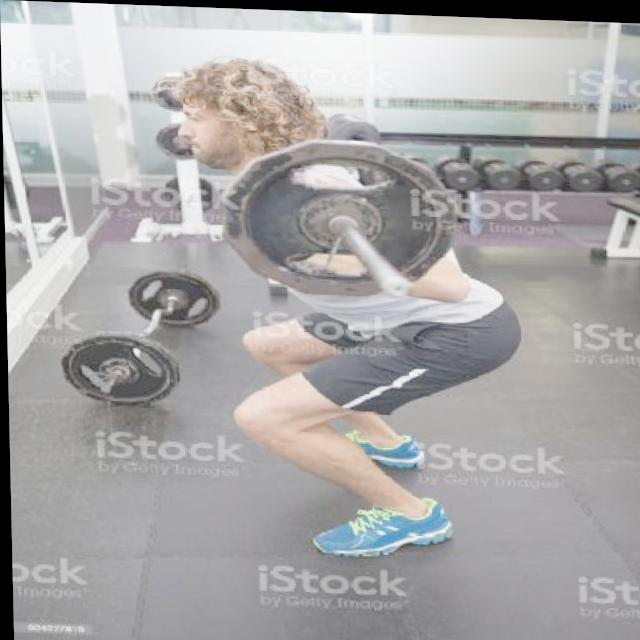barbell: (214, 126, 462, 306)
